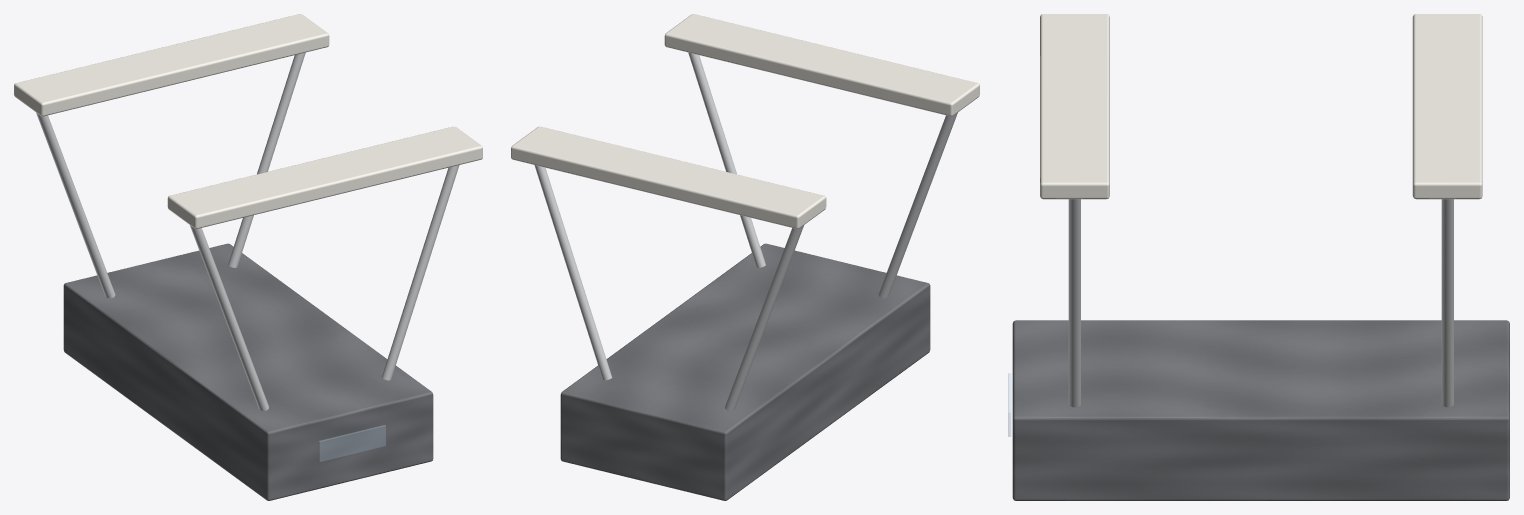
Rendered from fps-weapon-set-and-firing-range-chronograph-e340e385__19543.glb.
3 renders of one model, left to right at view 1: azimuth 30°, elevation 25°; view 2: azimuth 150°, elevation 25°; view 3: azimuth 270°, elevation 25°, orthographic. The views are drawn at different scales.
Parts seen in each view (by area): view 1: chronograph; view 2: chronograph; view 3: chronograph.
Boxes of the visible parts, x1,y1,x2,y2 form: chronograph: (14,14,482,500); chronograph: (511,14,979,500); chronograph: (1008,14,1509,500).
Bounding box in the file's own units: 0.26 × 0.252 × 0.323.
4 materials, 1 textured.
